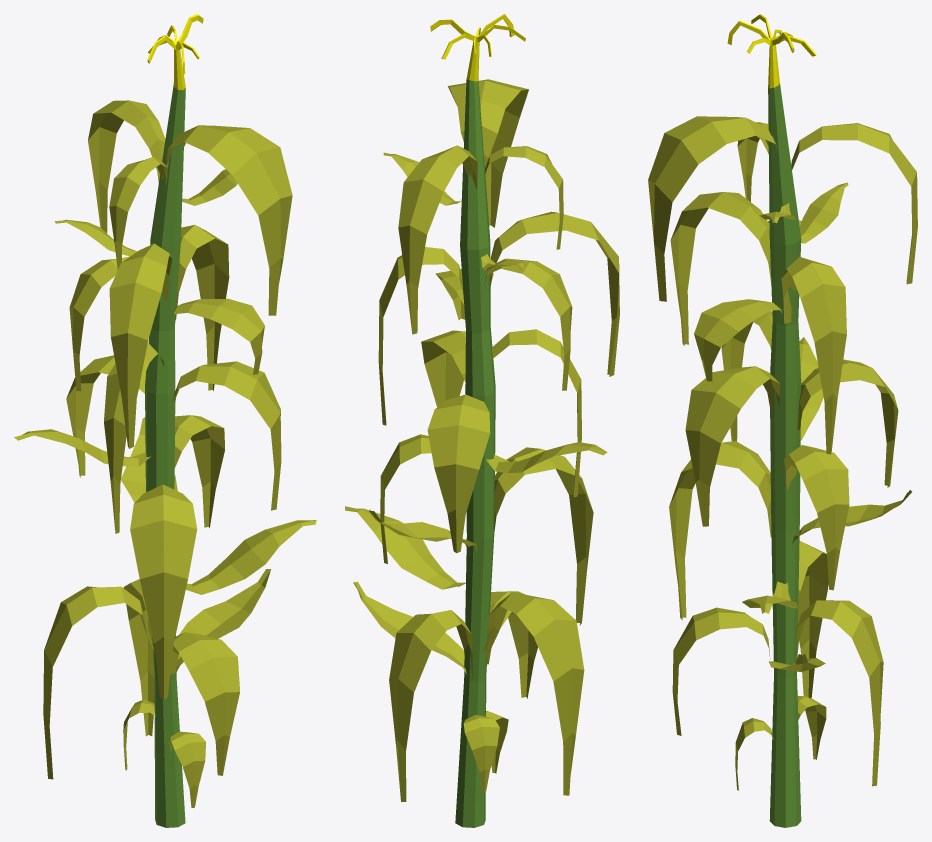
Rendered from crop_plant.glb.
3 views of the same model, side by side, from view 1: azimuth 30°, elevation 25°; view 2: azimuth 150°, elevation 25°; view 3: azimuth 270°, elevation 25° (orthographic).
Parts seen in each view (by area): view 1: Cube.010_Cube.024_M4_0.001; view 2: Cube.010_Cube.024_M4_0.001; view 3: Cube.010_Cube.024_M4_0.001.
Boxes of the visible parts, x1,y1,x2,y2 form: Cube.010_Cube.024_M4_0.001: (14,14,316,827); Cube.010_Cube.024_M4_0.001: (345,14,619,827); Cube.010_Cube.024_M4_0.001: (648,14,917,827).
Size of the model in its own units: 1.67 by 4.5 by 1.38.
1 material, 1 textured.
